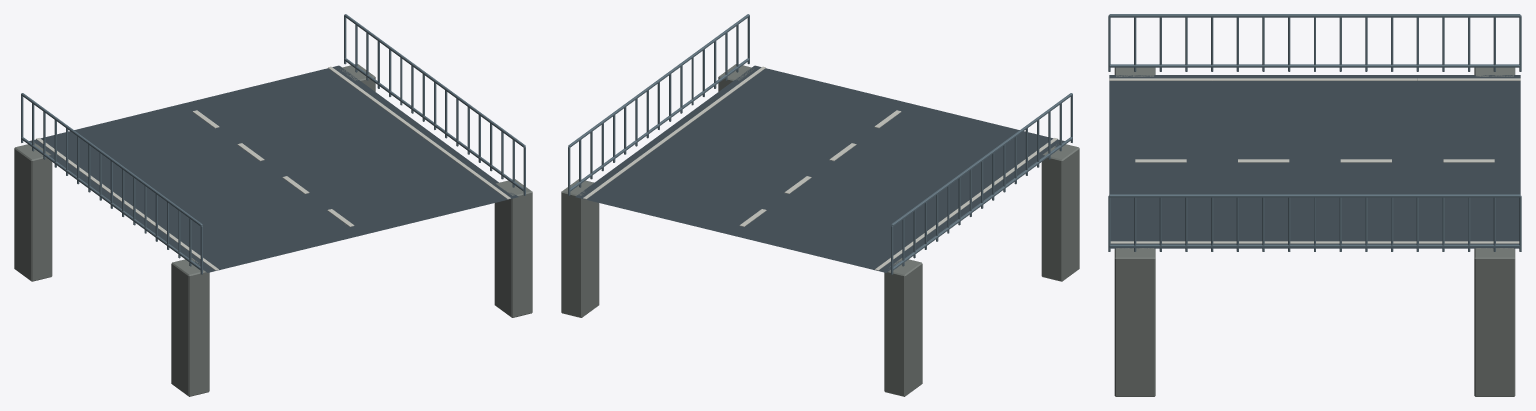
File: landscape-road-bridge.lod0.glb
The picture shows the model from 3 angles, left to right: view 1: azimuth 30°, elevation 25°; view 2: azimuth 150°, elevation 25°; view 3: azimuth 270°, elevation 25°; orthographic projection. The views are drawn at different scales.
Parts seen in each view (by area): view 1: landscape-road-bridge__body; view 2: landscape-road-bridge__body; view 3: landscape-road-bridge__body.
Boxes of the visible parts, x1=… form: landscape-road-bridge__body: x1=14, y1=14, x2=532, y2=396; landscape-road-bridge__body: x1=561, y1=14, x2=1079, y2=396; landscape-road-bridge__body: x1=1108, y1=14, x2=1521, y2=396.
Size of the model in its own units: 8.85 by 4.23 by 8.05.
